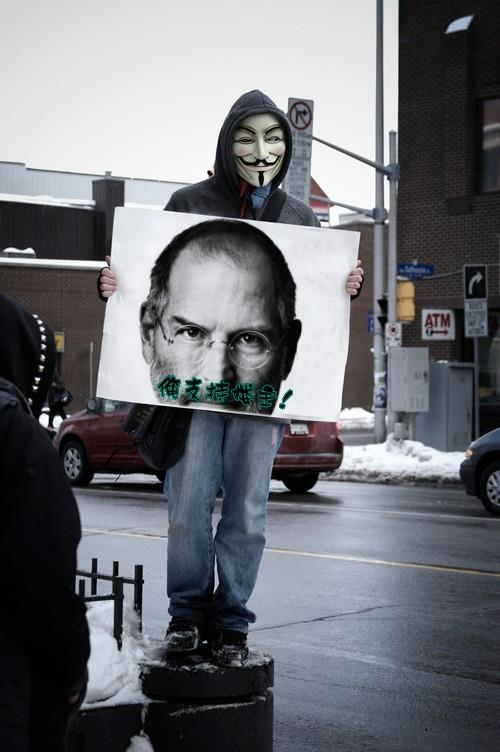Steven_Jobs: (107, 211, 320, 419)
